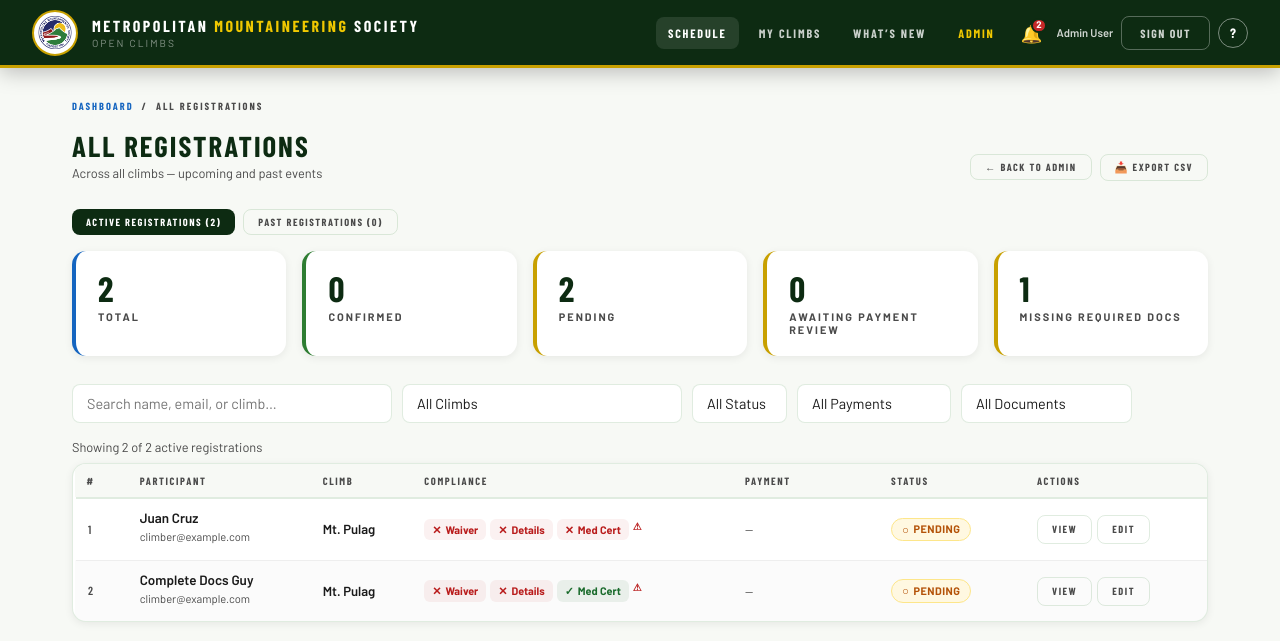
it: Admin AllRegistrations › filters to registrants missing required documents
Expected: the text "Juan Cruz" is shown, [140, 510, 198, 526]
Expected: the text "Complete Docs Guy" is shown, [140, 572, 253, 588]
Step 1. Select "Missing Required Docs" in the 4th dropdown showing "All Documents" → (1046, 404), box [961, 384, 1132, 423]
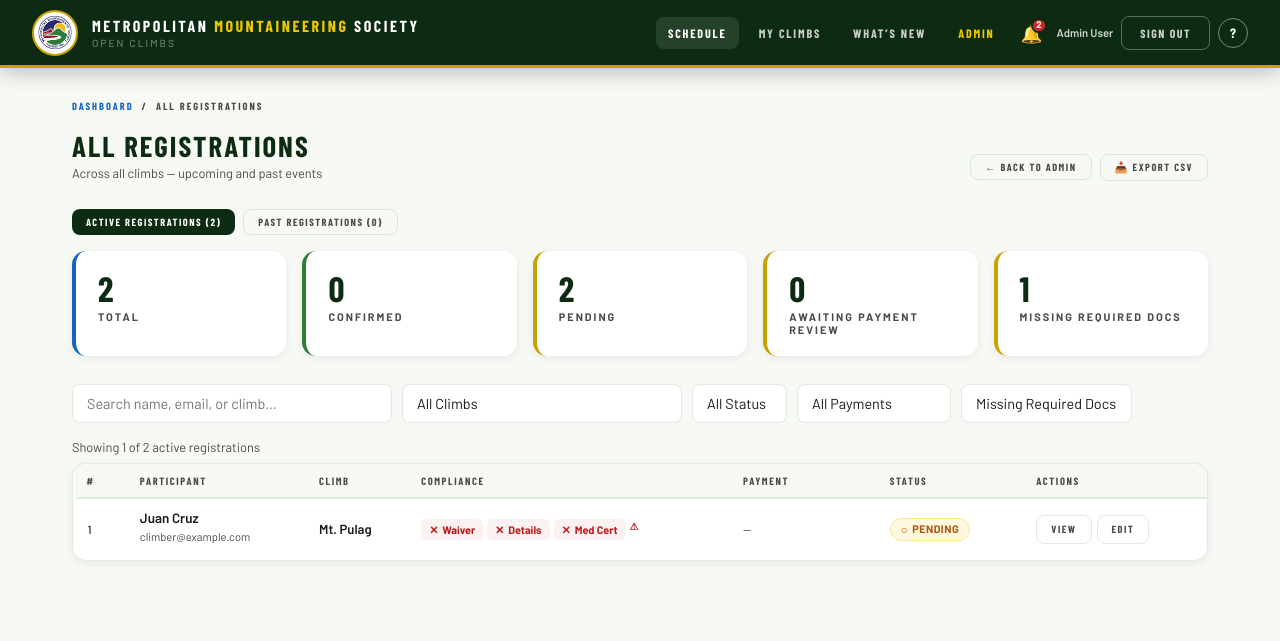
Expected: the text "Juan Cruz" is shown, [140, 510, 198, 526]
Expected: the text "Complete Docs Guy" is gone
